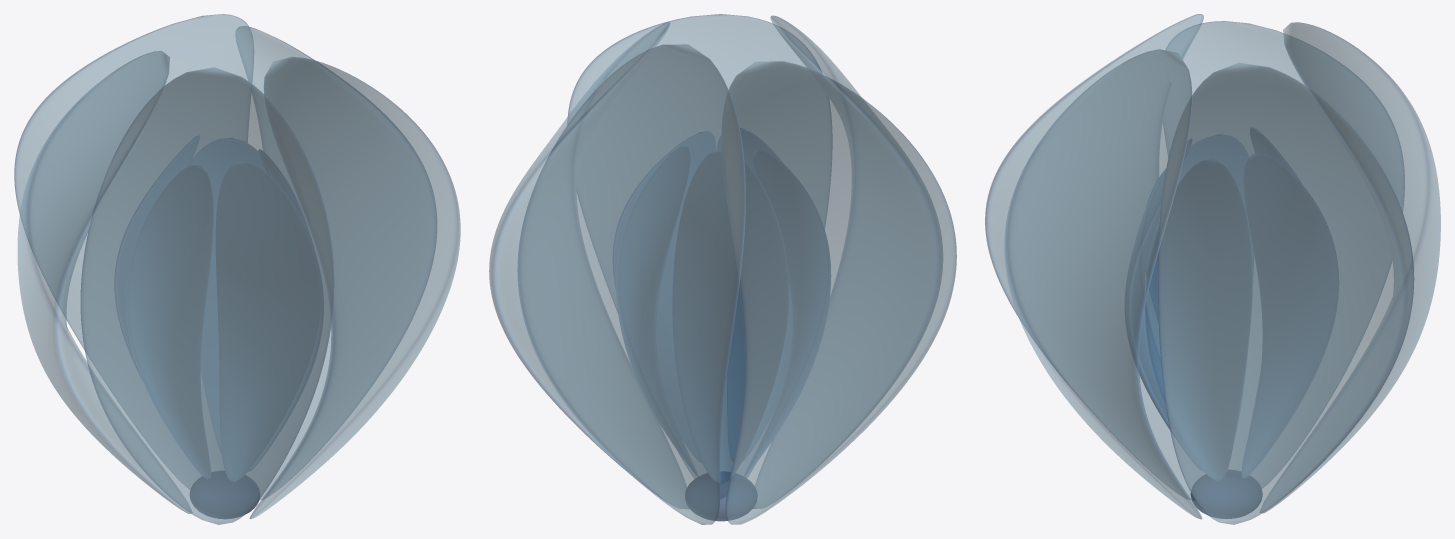
File: aurelia_flower.glb
3 renders of one model, left to right at view 1: azimuth 30°, elevation 25°; view 2: azimuth 150°, elevation 25°; view 3: azimuth 270°, elevation 25°, orthographic. The views are drawn at different scales.
Parts seen in each view (by area): view 1: Petal_04, Petal_05, Petal_02, Petal_01, Petal_03, Inner_Petal_04, Inner_Petal_03, Inner_Petal_01, Inner_Petal_02, Flower_Center, Inner_Petal_05; view 2: Petal_02, Petal_03, Petal_05, Petal_04, Petal_01, Inner_Petal_02, Inner_Petal_01, Inner_Petal_03, Inner_Petal_05, Inner_Petal_04, Flower_Center; view 3: Petal_01, Petal_05, Petal_04, Petal_03, Petal_02, Inner_Petal_05, Inner_Petal_01, Inner_Petal_04, Flower_Center, Inner_Petal_03, Inner_Petal_02.
Boxes of the visible parts, left/top/right/bottom form: Petal_04: left=80, top=67, right=334, bottom=524; Petal_05: left=249, top=56, right=460, bottom=518; Petal_02: left=14, top=14, right=253, bottom=489; Petal_01: left=235, top=26, right=436, bottom=499; Petal_03: left=17, top=51, right=192, bottom=513; Inner_Petal_04: left=216, top=162, right=320, bottom=481; Inner_Petal_03: left=126, top=165, right=213, bottom=479; Inner_Petal_01: left=190, top=138, right=267, bottom=453; Inner_Petal_02: left=114, top=136, right=199, bottom=376; Flower_Center: left=190, top=471, right=259, bottom=518; Inner_Petal_05: left=249, top=149, right=323, bottom=470; Petal_02: left=517, top=44, right=745, bottom=524; Petal_03: left=721, top=61, right=956, bottom=524; Petal_05: left=567, top=14, right=832, bottom=498; Petal_04: left=753, top=15, right=942, bottom=508; Petal_01: left=489, top=22, right=688, bottom=508; Inner_Petal_02: left=672, top=150, right=788, bottom=483; Inner_Petal_01: left=616, top=146, right=697, bottom=475; Inner_Petal_03: left=744, top=150, right=830, bottom=475; Inner_Petal_05: left=613, top=132, right=715, bottom=462; Inner_Petal_04: left=716, top=128, right=792, bottom=460; Flower_Center: left=685, top=471, right=757, bottom=521; Petal_01: left=1158, top=62, right=1414, bottom=524; Petal_05: left=1004, top=49, right=1202, bottom=519; Petal_04: left=985, top=14, right=1205, bottom=499; Petal_03: left=1163, top=21, right=1404, bottom=488; Petal_02: left=1260, top=22, right=1440, bottom=513; Inner_Petal_05: left=1145, top=159, right=1252, bottom=480; Inner_Petal_01: left=1241, top=154, right=1338, bottom=478; Inner_Petal_04: left=1125, top=139, right=1202, bottom=470; Flower_Center: left=1190, top=470, right=1262, bottom=518; Inner_Petal_03: left=1146, top=134, right=1253, bottom=430; Inner_Petal_02: left=1250, top=127, right=1299, bottom=425.
Size of the model in its own units: 2.68 by 3.12 by 2.65.
